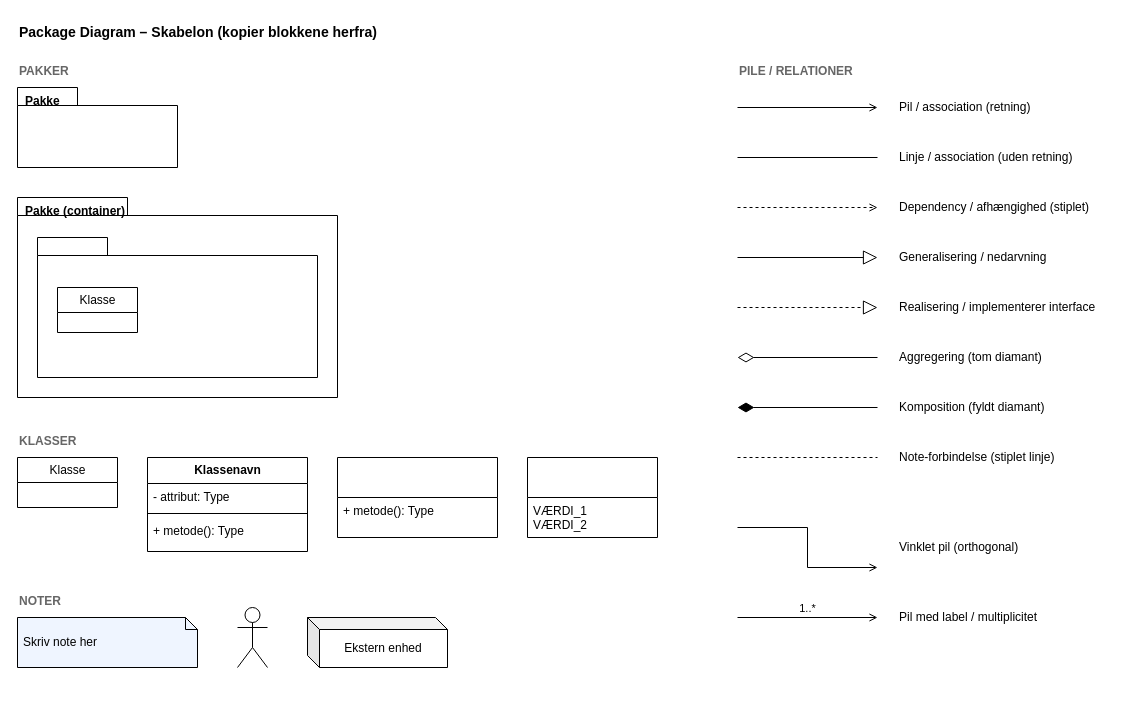
Image size: 1145x705. Some labels were removed from this diagram. The shapes that lost their labels are listed below. From the top down, each one's box as (x1, y1, x2, y2) in pixels, then its label:
(36, 236, 318, 378): Underpakke
(336, 456, 498, 538): «interface» Interface
(526, 456, 658, 538): «enumeration» Enum
(236, 606, 268, 668): Aktør
